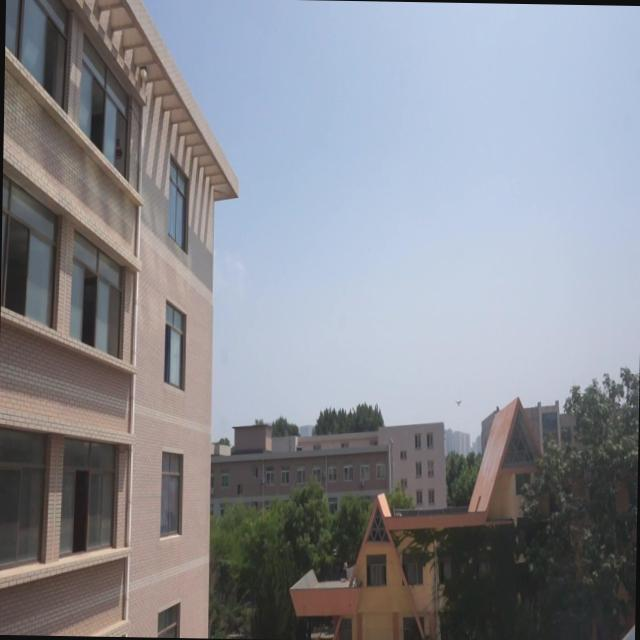drone: (453, 396, 462, 410)
